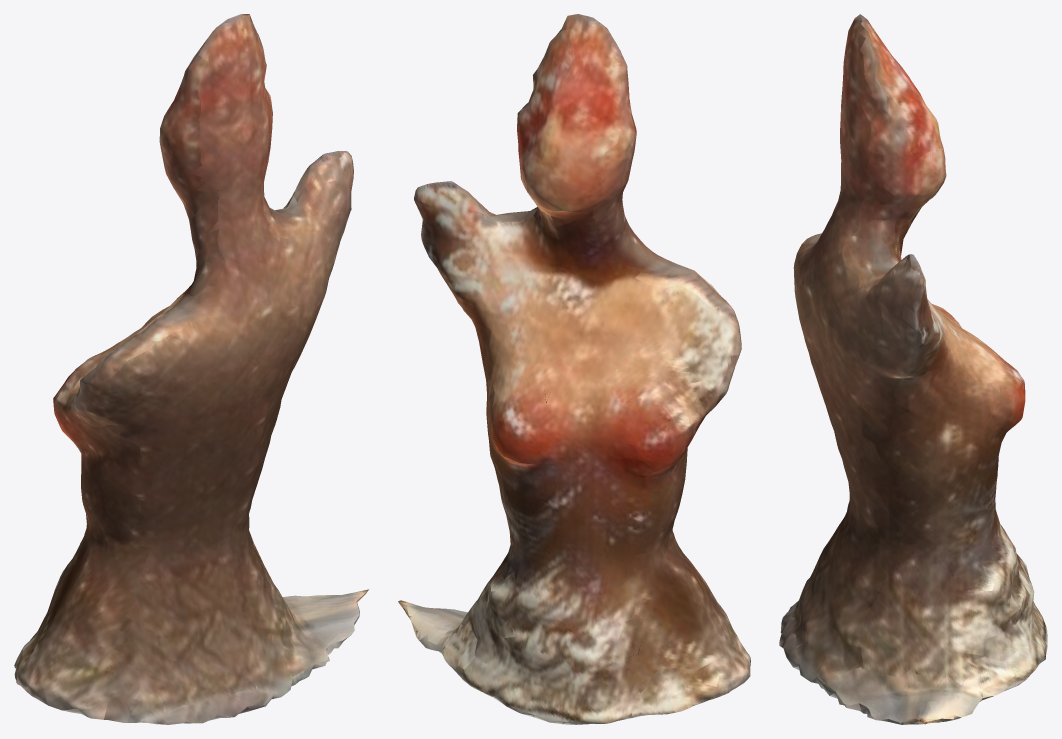
File: tmpmtbadd8c.glb
The picture shows the model from 3 angles, left to right: view 1: azimuth 30°, elevation 25°; view 2: azimuth 150°, elevation 25°; view 3: azimuth 270°, elevation 25°; orthographic projection. The views are drawn at different scales.
Visible parts, largest first — view 1: world; view 2: world; view 3: world.
Boxes of the visible parts, bbox=[...] form: world: bbox=[14, 14, 368, 724]; world: bbox=[398, 14, 750, 724]; world: bbox=[779, 14, 1047, 724].
Bounding box in the file's own units: 0.492 × 0.886 × 0.3297.
Materials: 1 (1 with a texture image).
